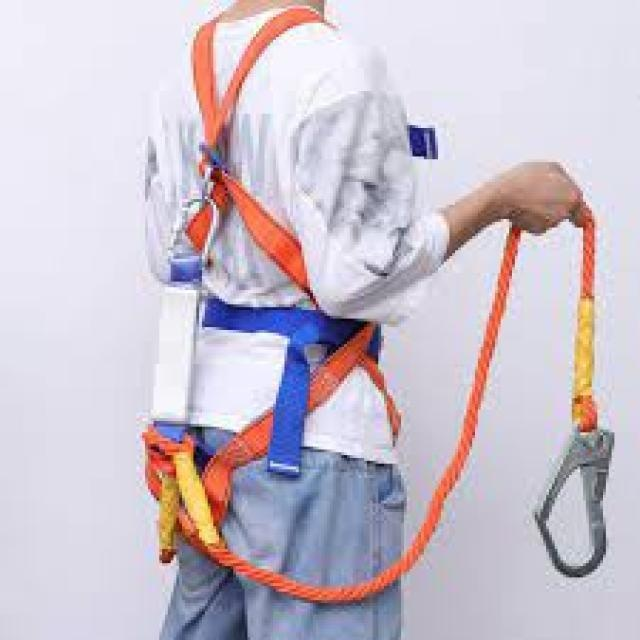Arnes_seguridad: (163, 4, 346, 454)
